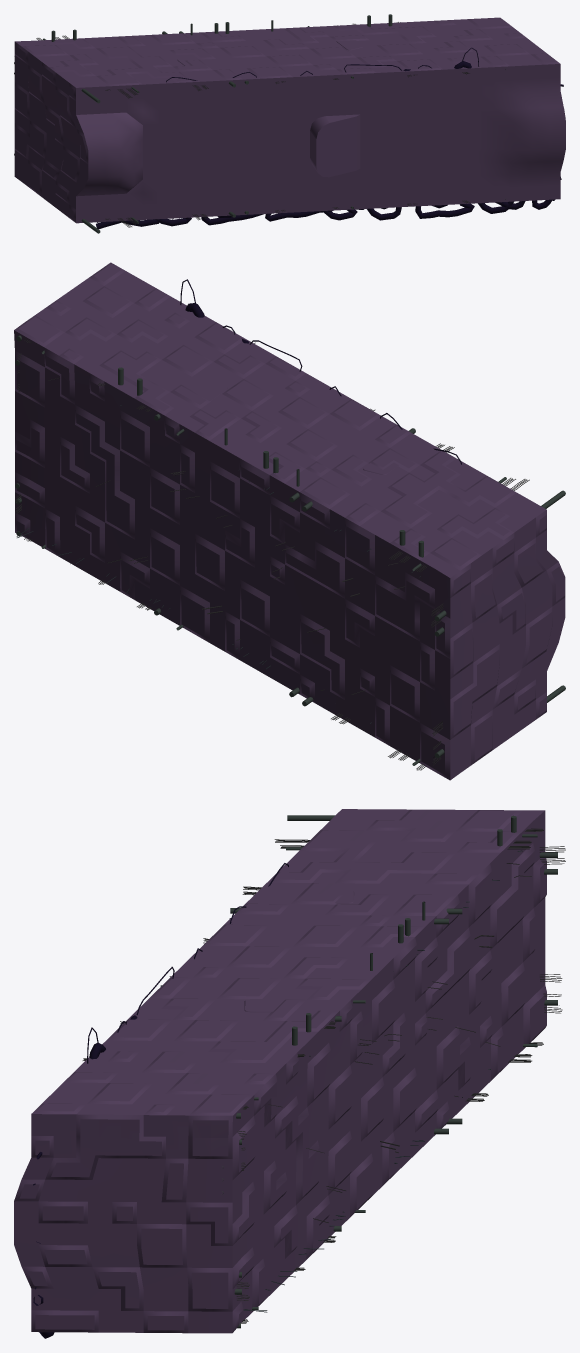
The model's file is Level_2.fbx.
3 views of the same model, one above another, from view 1: azimuth 30°, elevation 25°; view 2: azimuth 150°, elevation 25°; view 3: azimuth 270°, elevation 25° (orthographic). The views are drawn at different scales.
Visible parts, largest first — view 1: BézierCurve.001; view 2: BézierCurve.001; view 3: BézierCurve.001.
Boxes of the visible parts, bbox=[...] form: BézierCurve.001: bbox=[14, 14, 565, 233]; BézierCurve.001: bbox=[14, 262, 565, 780]; BézierCurve.001: bbox=[14, 809, 565, 1338].
Bounding box in the file's own units: 18310 × 7504 × 13767.
